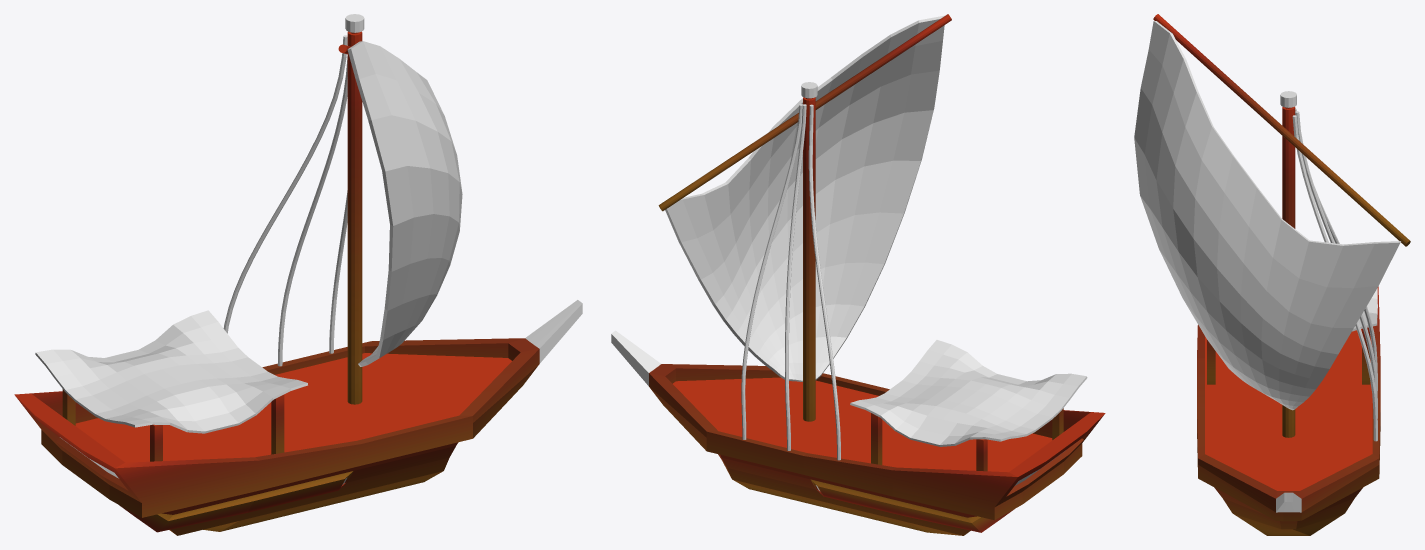
File: badNorth_DhowShipTest1.fbx
3 views of the same model, side by side, from view 1: azimuth 30°, elevation 25°; view 2: azimuth 150°, elevation 25°; view 3: azimuth 270°, elevation 25° (orthographic). The views are drawn at different scales.
Parts seen in each view (by area): view 1: mainBoat, subBoat, Mass, roof, massBigBar, sideDetails, rope2, woodenBeams, rope1, rope3; view 2: Mass, mainBoat, subBoat, roof, massBigBar, massSmallBar, sideDetails, rope2, rope1, rope3, woodenBeams; view 3: Mass, mainBoat, subBoat, massSmallBar, massBigBar, rope3, rope1, woodenBeams, rope2, roof.
Part boxes in pixels (left/top/right/bottom): mainBoat: left=75, top=353, right=511, bottom=535; subBoat: left=14, top=300, right=582, bottom=517; Mass: left=347, top=41, right=462, bottom=366; roof: left=35, top=310, right=307, bottom=433; massBigBar: left=345, top=14, right=364, bottom=404; sideDetails: left=119, top=471, right=353, bottom=532; rope2: left=223, top=35, right=347, bottom=333; woodenBeams: left=62, top=389, right=284, bottom=461; rope1: left=277, top=56, right=347, bottom=366; rope3: left=329, top=190, right=347, bottom=353; Mass: left=662, top=15, right=944, bottom=381; mainBoat: left=673, top=377, right=1052, bottom=535; subBoat: left=611, top=330, right=1105, bottom=520; roof: left=850, top=340, right=1087, bottom=446; massBigBar: left=801, top=82, right=817, bottom=421; massSmallBar: left=658, top=14, right=951, bottom=211; sideDetails: left=810, top=479, right=1014, bottom=532; rope2: left=808, top=104, right=840, bottom=460; rope1: left=785, top=104, right=806, bottom=450; rope3: left=741, top=104, right=802, bottom=439; woodenBeams: left=871, top=408, right=1063, bottom=471; Mass: left=1134, top=21, right=1400, bottom=410; mainBoat: left=1205, top=329, right=1372, bottom=535; subBoat: left=1197, top=286, right=1380, bottom=521; massSmallBar: left=1153, top=14, right=1410, bottom=246; massBigBar: left=1280, top=91, right=1296, bottom=437; rope3: left=1292, top=115, right=1377, bottom=441; rope1: left=1295, top=111, right=1377, bottom=418; woodenBeams: left=1207, top=327, right=1370, bottom=384; rope2: left=1295, top=108, right=1377, bottom=390; roof: left=1352, top=288, right=1377, bottom=331.
Bounding box in the file's own units: 319 × 302 × 165.
3 materials, 1 textured.
